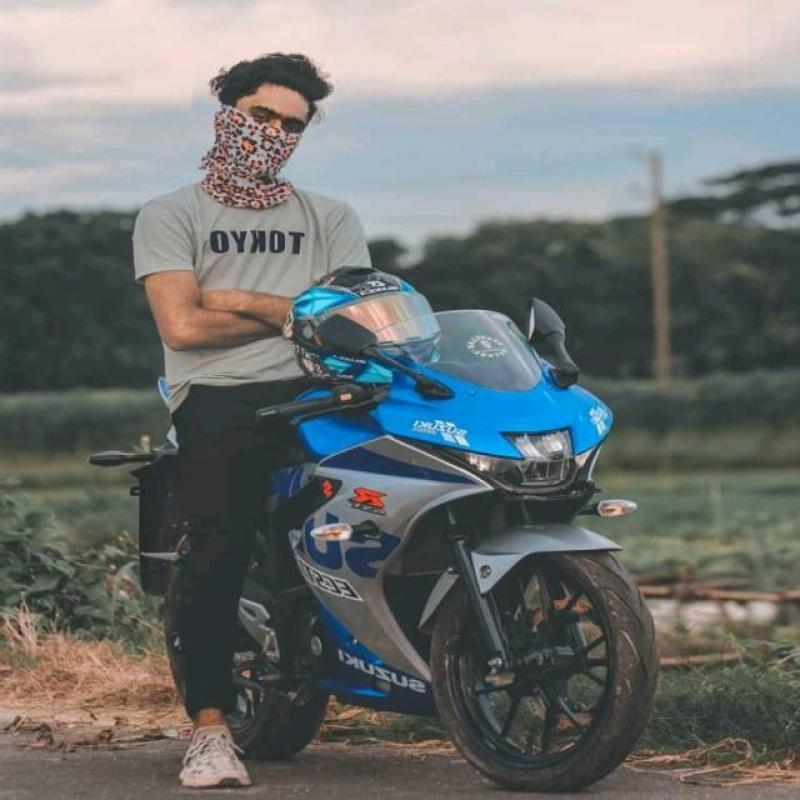nohelmet: (186, 50, 334, 182)
